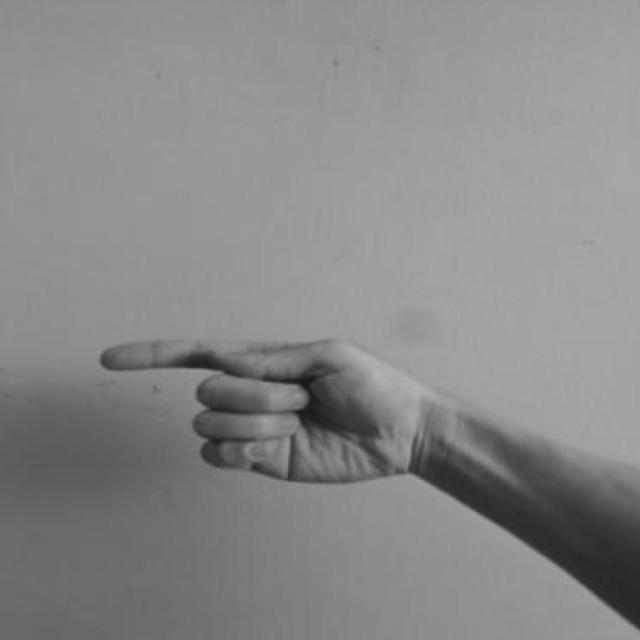G: (85, 305, 463, 530)
